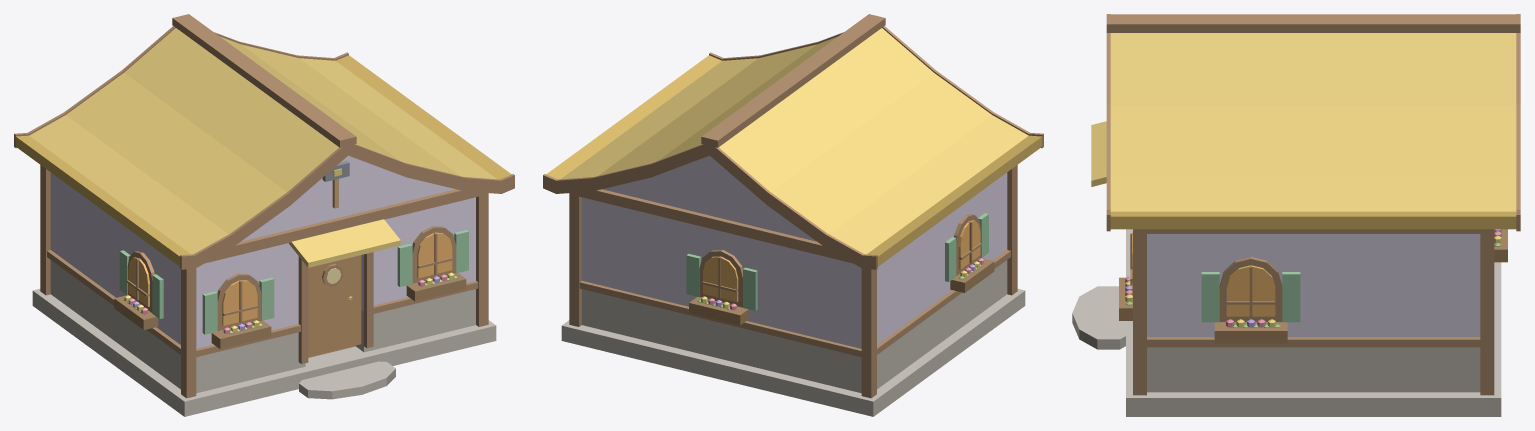
File: forge_lilac.glb
The picture shows the model from 3 angles, left to right: view 1: azimuth 30°, elevation 25°; view 2: azimuth 150°, elevation 25°; view 3: azimuth 270°, elevation 25°; orthographic projection. The views are drawn at different scales.
Parts seen in each view (by area): view 1: Player; view 2: Player; view 3: Player.
Boxes of the visible parts, <box> form: Player: <box>14,14,514,416</box>; Player: <box>543,14,1043,416</box>; Player: <box>1072,14,1520,416</box>.
Size of the model in its own units: 6.84 by 4.82 by 6.45.
